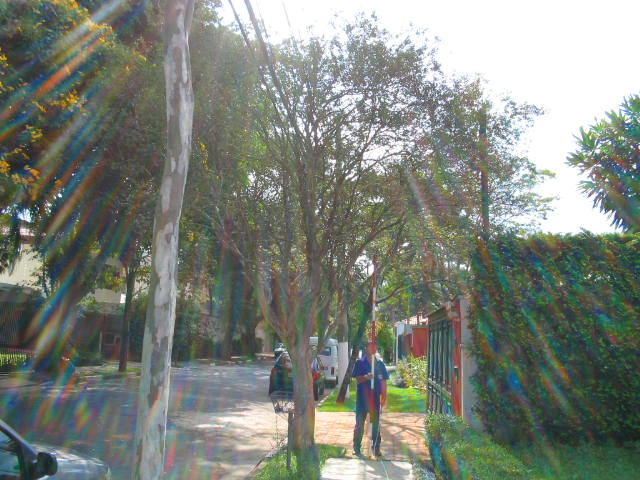crown: (199, 12, 559, 318)
stem: (279, 357, 333, 480)
stick: (364, 254, 382, 460)
tree: (196, 11, 561, 479)
